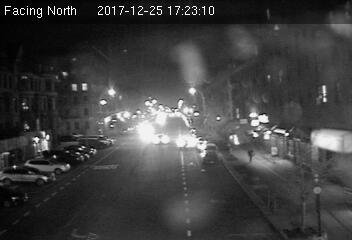car: (175, 135, 195, 149), (153, 133, 170, 144)
